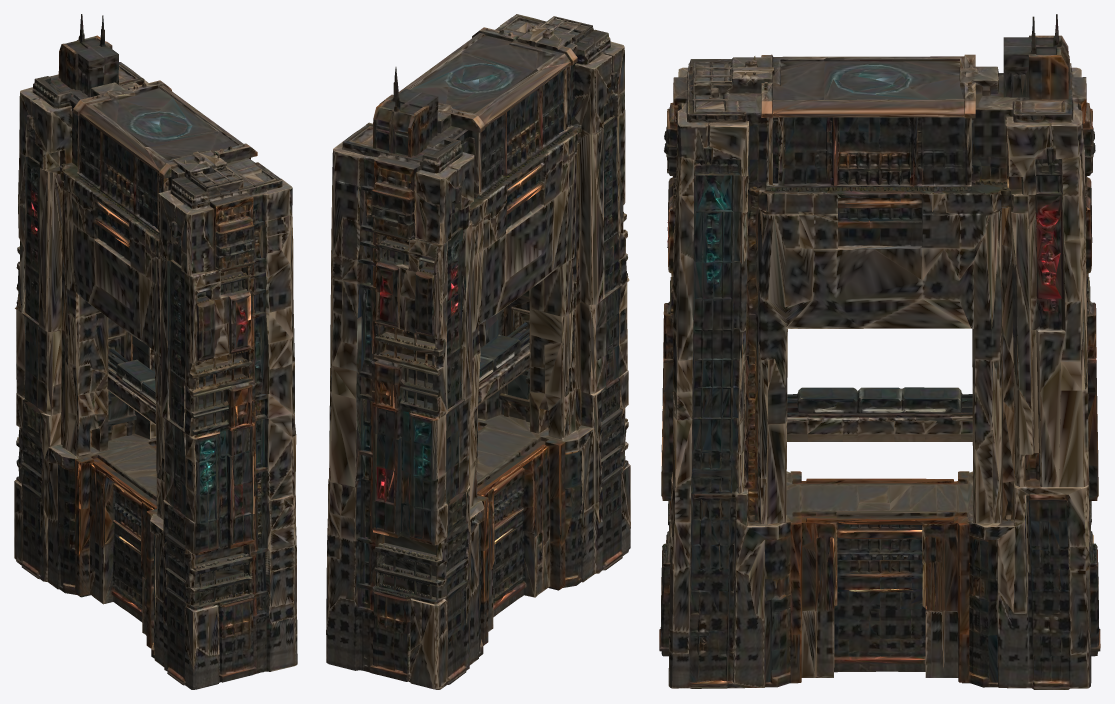
The picture shows the model from 3 angles, left to right: view 1: azimuth 30°, elevation 25°; view 2: azimuth 150°, elevation 25°; view 3: azimuth 270°, elevation 25°; orthographic projection. The views are drawn at different scales.
Parts seen in each view (by area): view 1: m04; view 2: m04; view 3: m04.
Boxes of the visible parts, x1,y1,x2,y2 form: m04: [14, 14, 297, 689]; m04: [326, 14, 630, 689]; m04: [659, 14, 1100, 689].
Bounding box in the file's own units: 29.94 × 140 × 86.29.
Materials: 1 (1 with a texture image).
